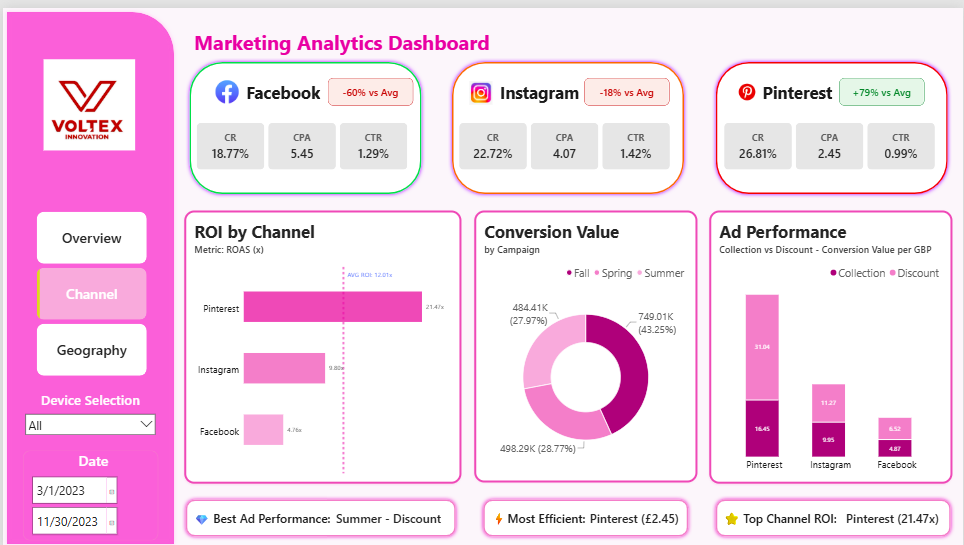

The dashboard page shown, as its layout file describes it:
{"tool":"powerbi","page":{"name":"Channel","canvas":[1920,1080],"ordinal":1},"visuals":[{"type":"shape","title":"Ads","box":[0,0,1920,1080],"z":0},{"type":"shape","box":[363.9,100,480,280],"z":0,"group":"g5"},{"type":"shape","box":[890.9,100,480,280],"z":0,"group":"g4"},{"type":"shape","box":[1418,100,480,280],"z":0,"group":"g3"},{"type":"shape","box":[357.2,974,556,90],"z":0,"group":"g1"},{"type":"shape","box":[952.6,974,426,90],"z":0,"group":"g2"},{"type":"cardVisual","fields":{"Data":["_Measure.Top Channel ROI"]},"box":[1662,974,220,90],"z":0,"group":"g7"},{"type":"shape","box":[0,0,350,1080],"z":1000},{"type":"cardVisual","title":"Facebook","fields":{"Data":["_Measure.Conversion Rate","_Measure.Cost per Conversion","_Measure.AVG CTR"]},"box":[387.2,229.3,421.7,93.3],"z":1000,"group":"g5"},{"type":"cardVisual","title":"Facebook","fields":{"Data":["_Measure.Conversion Rate","_Measure.Cost per Conversion","_Measure.AVG CTR"]},"box":[914.2,229.3,421.7,93.3],"z":1000,"group":"g4"},{"type":"cardVisual","title":"Facebook","fields":{"Data":["_Measure.Conversion Rate","_Measure.Cost per Conversion","_Measure.AVG CTR"]},"box":[1443,229.3,421.7,93.3],"z":1000,"group":"g3"},{"type":"cardVisual","fields":{"Data":["_Measure.Best Ad Performance"]},"box":[649.2,974,312,90],"z":1000,"group":"g1"},{"type":"cardVisual","fields":{"Data":["_Measure.Cost Efficiency Ads"]},"box":[1158.6,974,220,90],"z":1000,"group":"g2"},{"type":"shape","box":[1418,974,486,90],"z":1000,"group":"g7"},{"type":"textbox","box":[100,100,300,300],"z":2000},{"type":"shape","box":[988.2,124,184,86],"z":2000,"group":"g4"},{"type":"shape","box":[478.7,124.6,180,86],"z":2000,"group":"g5"},{"type":"shape","box":[1512.3,124.6,170,86],"z":2000,"group":"g3"},{"type":"shape","box":[375,20,1197.5,95],"z":3000},{"type":"cardVisual","fields":{"Data":["_Measure.ROI Badge Text"]},"box":[648.3,140,170,55],"z":3000,"group":"g5"},{"type":"cardVisual","fields":{"Data":["_Measure.ROI Badge Text"]},"box":[1162.8,140,170,55],"z":3000,"group":"g4"},{"type":"cardVisual","fields":{"Data":["_Measure.ROI Badge Text"]},"box":[1674,140,170,55],"z":3000,"group":"g3"},{"type":"image","box":[422.9,131.7,46.7,70],"z":4000,"group":"g5"},{"type":"image","box":[1465.1,131.7,46.7,70],"z":4000,"group":"g3"},{"type":"image","box":[934.2,134,46,70],"z":4000,"group":"g4"},{"type":"pageNavigator","box":[66.7,406.7,220,330],"z":4000},{"type":"image","box":[67.5,102.5,210,182.5],"z":5000},{"type":"barChart","title":"ROI by Channel","fields":{"Category":["MktCampaign_Data.Channel"],"Y":["_Measure.ROI"]},"box":[363.2,406,554,546],"z":6000},{"type":"columnChart","title":"Ad Performance","fields":{"Category":["MktCampaign_Data.Channel"],"Series":["MktCampaign_Data.Ad"],"Y":["_Measure.Conversion Value per GBP"]},"box":[1412,406,486,546],"z":7000},{"type":"textbox","box":[100,100,300,300],"z":8000},{"type":"group","id":"g1","title":"Group 1","box":[357.2,974,604,90],"z":9000},{"type":"group","id":"g2","title":"Group 2","box":[952.6,974,426,90],"z":10000},{"type":"slicer","title":"Device Selection","fields":{"Values":["MktCampaign_Data.Device"]},"box":[40,766,270,100],"z":11000},{"type":"group","id":"g3","title":"Group 4","box":[1418,100,480,280],"z":13000},{"type":"group","id":"g4","title":"Group 5","box":[890.9,100,480,280],"z":14000},{"type":"group","id":"g5","title":"Group 6","box":[363.9,100,480,280],"z":15000},{"type":"group","id":"g6","title":"Group 7","box":[1418,974,486,90],"z":16000},{"type":"donutChart","title":"Conversion Value","fields":{"Category":["MktCampaign_Data.Campaign"],"Y":["_Measure.Total Conversion Value"]},"box":[941.6,406,446,544],"z":17000},{"type":"slicer","title":"Date","fields":{"Values":["MktCampaign_Data.Date"]},"box":[40,884,270,180],"z":17001},{"type":"group","id":"g7","title":"Group 3","box":[1418,974,486,90],"z":21000,"group":"g6"},{"type":"cardVisual","fields":{"Data":["_Measure.Top Channel ROI"]},"box":[1670,974,220,90],"z":24000,"group":"g6"}]}

Visuals, with their boxes in screenshot pixels (x1, y1, x2, y2), scaled from the page's 1920x1080 canvas onto the 964x545 screenshot:
"Ads" shape: (0, 0, 963, 544)
shape: (183, 50, 424, 192)
shape: (447, 50, 688, 192)
shape: (712, 50, 953, 192)
shape: (179, 492, 459, 537)
shape: (478, 492, 692, 537)
cardVisual - _Measure.Top Channel ROI: (834, 492, 945, 537)
shape: (0, 0, 176, 544)
"Facebook" cardVisual: (194, 116, 406, 163)
"Facebook" cardVisual: (459, 116, 671, 163)
"Facebook" cardVisual: (725, 116, 936, 163)
cardVisual - _Measure.Best Ad Performance: (326, 492, 483, 537)
cardVisual - _Measure.Cost Efficiency Ads: (582, 492, 692, 537)
shape: (712, 492, 956, 537)
textbox: (50, 50, 201, 202)
shape: (496, 63, 589, 106)
shape: (240, 63, 331, 106)
shape: (759, 63, 845, 106)
shape: (188, 10, 790, 58)
cardVisual - _Measure.ROI Badge Text: (326, 71, 411, 98)
cardVisual - _Measure.ROI Badge Text: (584, 71, 669, 98)
cardVisual - _Measure.ROI Badge Text: (840, 71, 926, 98)
image: (212, 66, 236, 102)
image: (736, 66, 759, 102)
image: (469, 68, 492, 103)
pageNavigator: (33, 205, 144, 372)
image: (34, 52, 139, 144)
"ROI by Channel" barChart: (182, 205, 461, 480)
"Ad Performance" columnChart: (709, 205, 953, 480)
textbox: (50, 50, 201, 202)
"Group 1" group: (179, 492, 483, 537)
"Group 2" group: (478, 492, 692, 537)
"Device Selection" slicer: (20, 387, 156, 437)
"Group 4" group: (712, 50, 953, 192)
"Group 5" group: (447, 50, 688, 192)
"Group 6" group: (183, 50, 424, 192)
"Group 7" group: (712, 492, 956, 537)
"Conversion Value" donutChart: (473, 205, 697, 479)
"Date" slicer: (20, 446, 156, 537)
"Group 3" group: (712, 492, 956, 537)
cardVisual - _Measure.Top Channel ROI: (838, 492, 949, 537)
